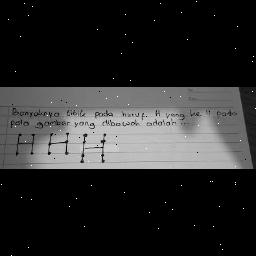h: (78, 132, 112, 170), (12, 129, 36, 163), (43, 132, 71, 156)
